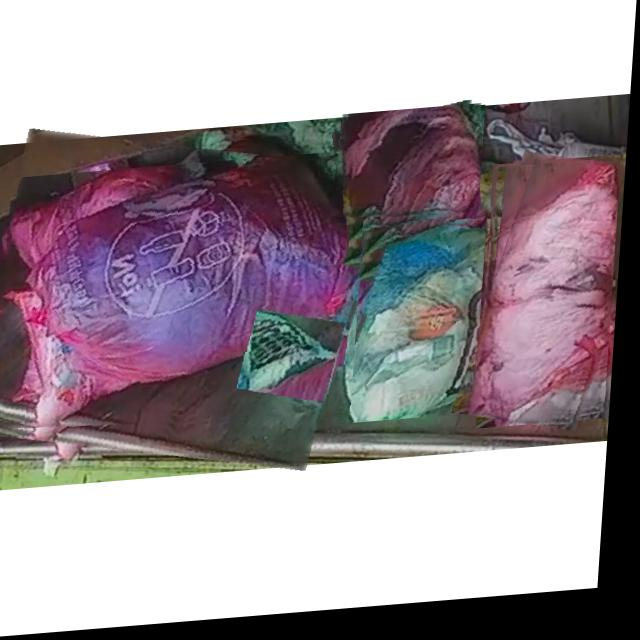general_trashbag: (350, 218, 490, 428), (263, 293, 351, 373)
other_trashbag: (9, 161, 363, 431), (476, 170, 622, 428), (340, 113, 483, 225)
